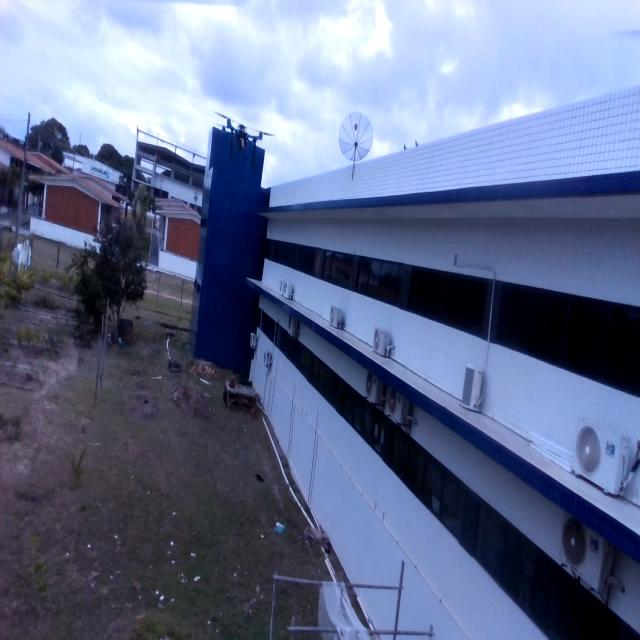-uav-: (212, 93, 279, 191)
